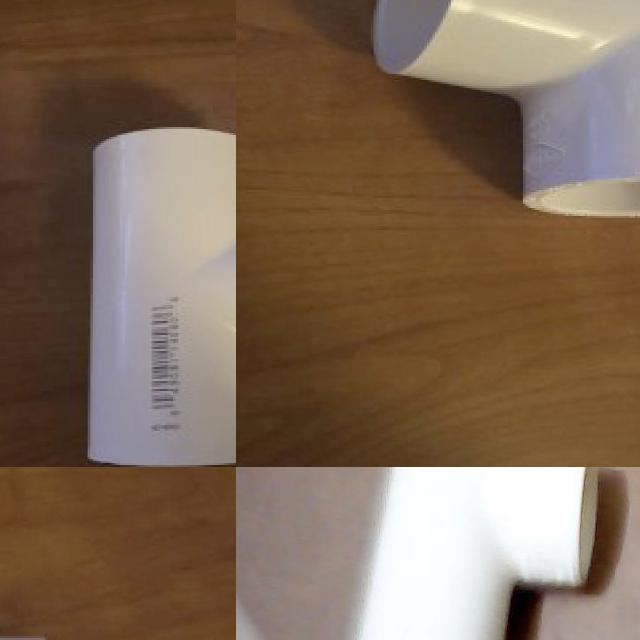T Joint: (85, 127, 236, 467), (353, 467, 600, 640)
